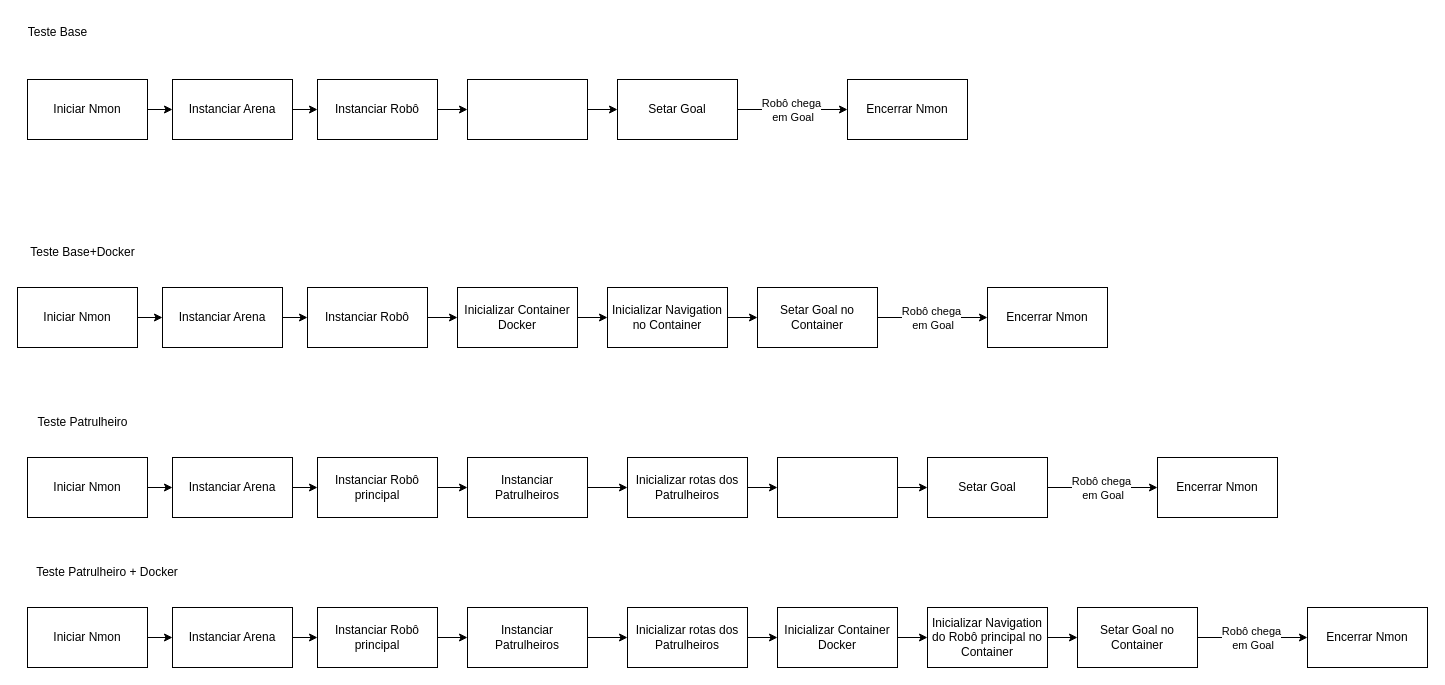
Some shapes in this 1445 by 685 pixel diagram are drawn without their labels. The shapes that lost their labels are listed below. From the top down, each one's centre as x and y in pixels, then its label:
At (x=527, y=109): "Inicializar Navigation".
At (x=837, y=487): "Inicializar Navigation do Robô principal".
